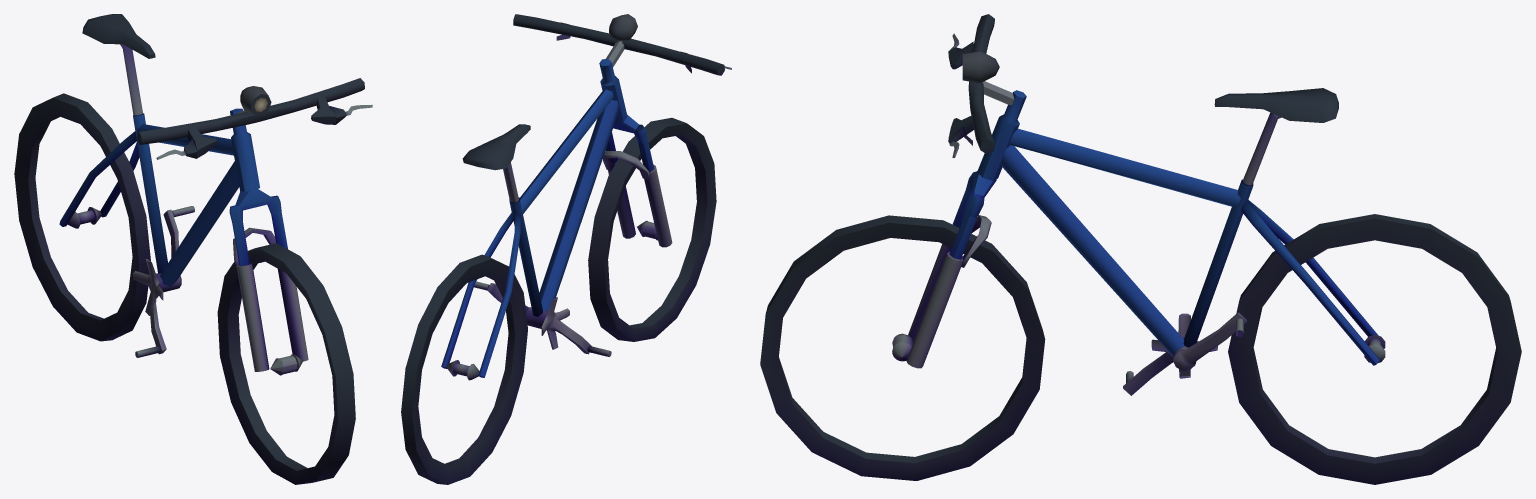
The model's file is vehicles-bikes-mountain-bike_v1.fbx.
3 views of the same model, side by side, from view 1: azimuth 30°, elevation 25°; view 2: azimuth 150°, elevation 25°; view 3: azimuth 270°, elevation 25° (orthographic). The views are drawn at different scales.
Visible parts, largest first — view 1: Mountain Bike; view 2: Mountain Bike; view 3: Mountain Bike.
Part boxes in pixels (x1,y1,x2,y2): Mountain Bike: (14, 14, 372, 484); Mountain Bike: (401, 14, 731, 484); Mountain Bike: (760, 14, 1521, 484).
Bounding box in the file's own units: 0.7092 × 1.12 × 1.8.
